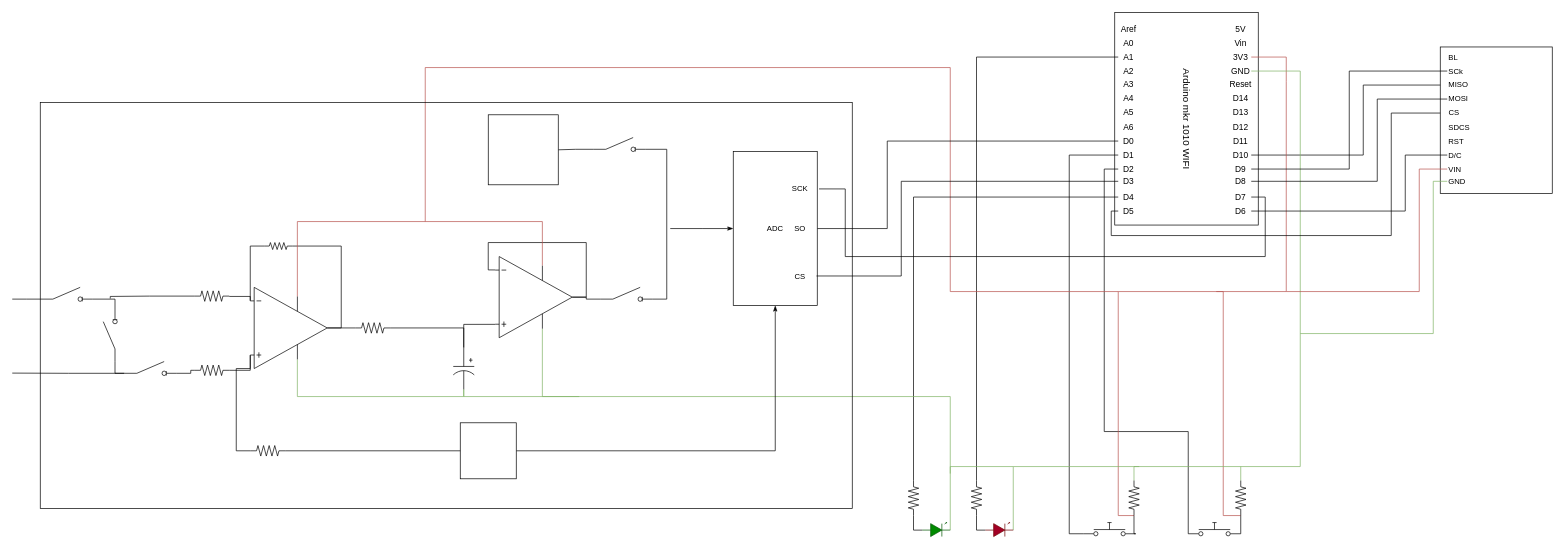
Some shapes in this 1565 by 549 pixel diagram are drawn without their labels. Each missing label, with the centre of its shape:
"COLD-JUNCTION COMPENSATION DIODE" belongs at (x=523, y=149).
"REFERENCE VOLTAGE" belongs at (x=488, y=450).
